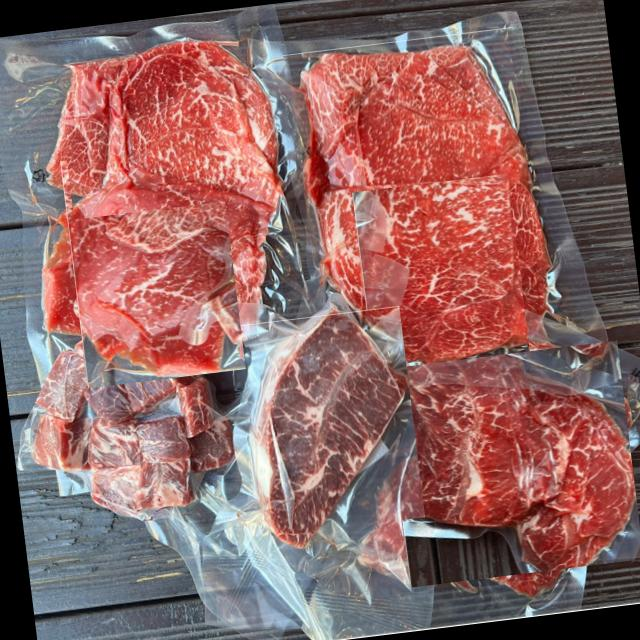beef: (387, 337, 640, 590), (45, 156, 261, 373), (232, 305, 424, 537), (334, 150, 544, 360), (283, 27, 531, 198), (55, 38, 284, 220)
